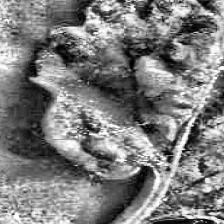disease: (27, 0, 224, 224)
